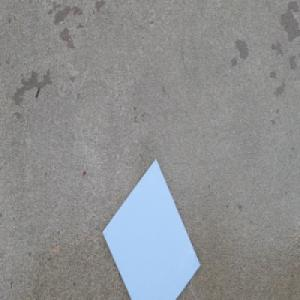PaintChip: (101, 158, 201, 300)
